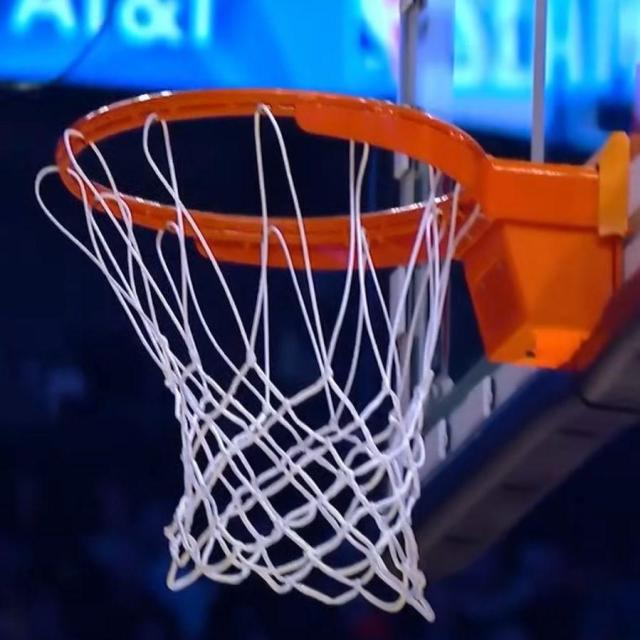hoop: (42, 80, 620, 606)
